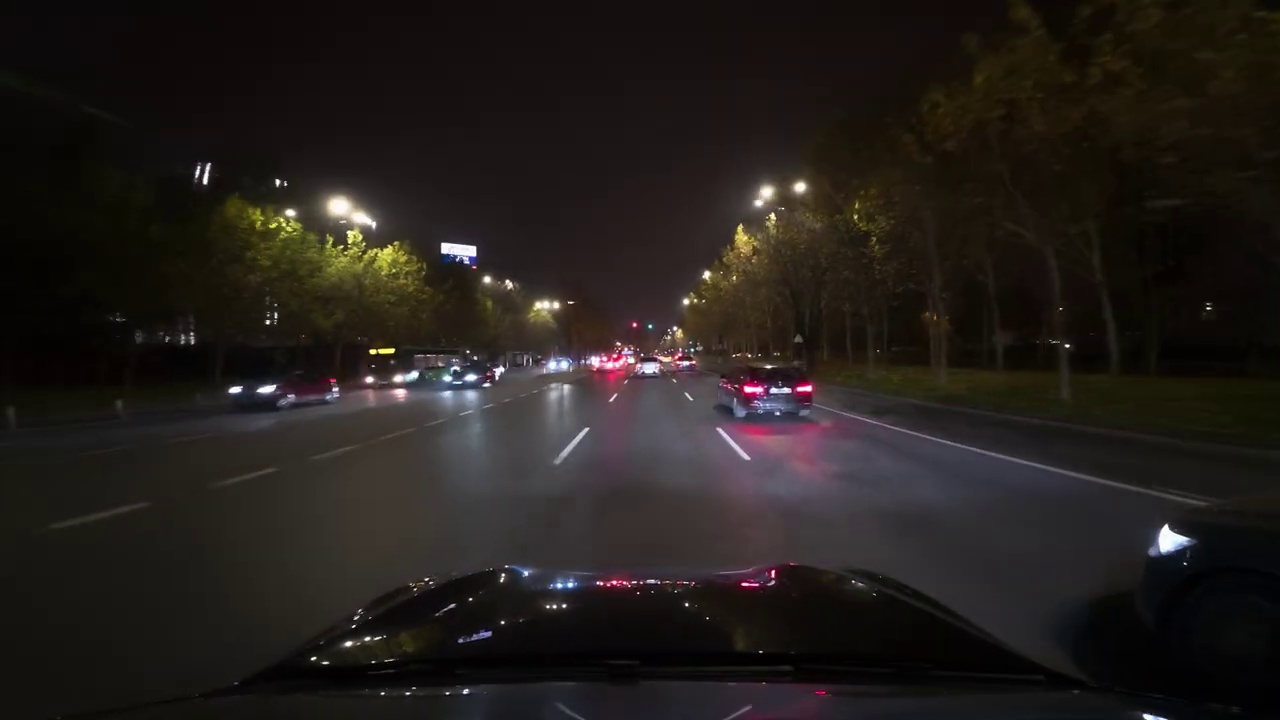acesa: (324, 194, 364, 221), (752, 181, 779, 209), (785, 177, 813, 202)
